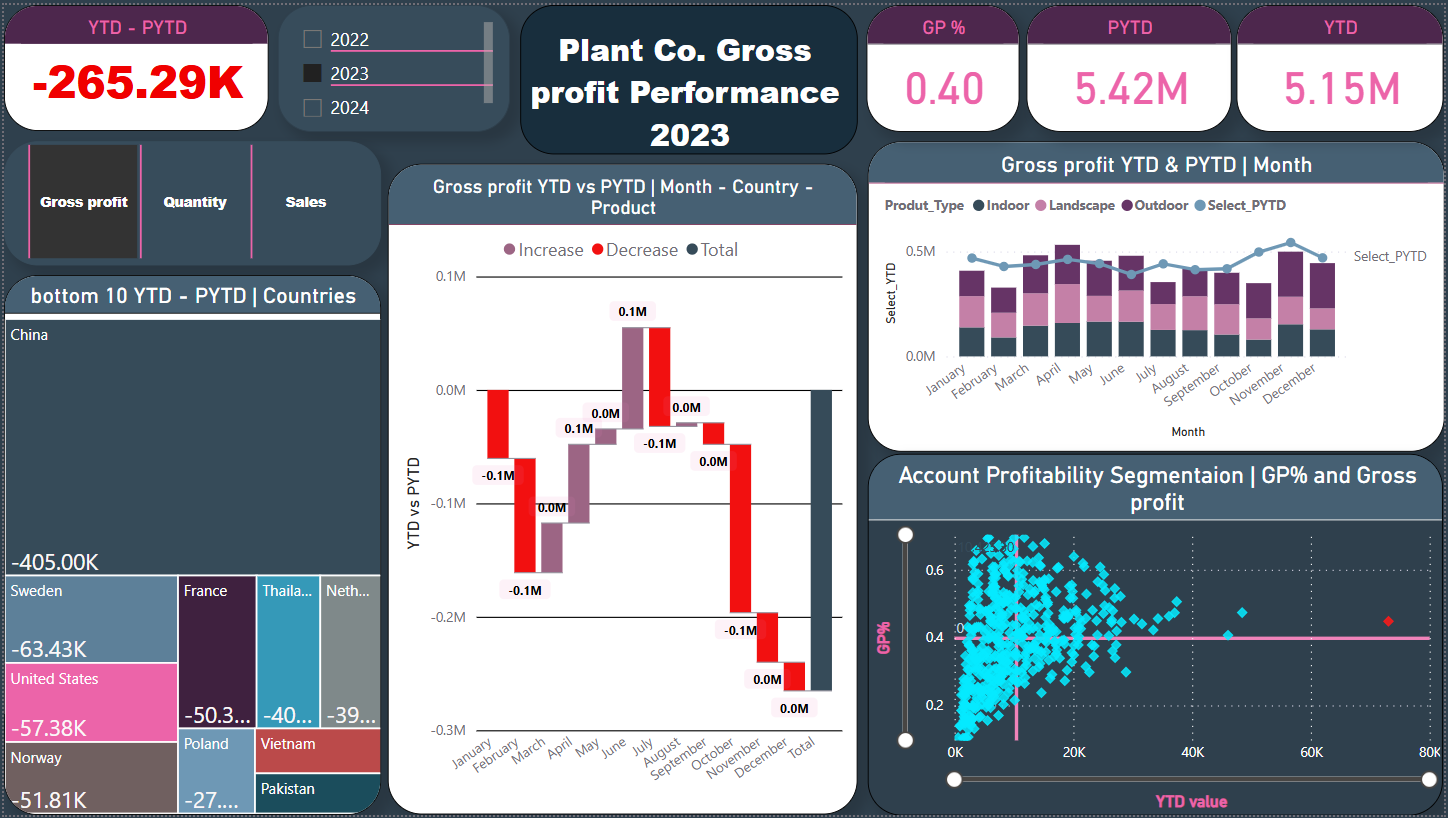

The page's visual inventory and layout, read from the dashboard file:
{"tool":"powerbi","page":{"name":"Page 1","canvas":[1280,720],"ordinal":0},"visuals":[{"type":"slicer","fields":{"Values":["Dim_Date.Date.Variation.Date Hierarchy.Year"]},"box":[243.8,0,206.2,112.5],"z":0},{"type":"slicer","fields":{"Values":["Slicer_Values.Values"]},"box":[0,112.5,335,118.8],"z":1000},{"type":"treemap","title":"bottom 10 YTD - PYTD | Countries","fields":{"Values":["_Measures.YTD vs PYTD"],"Group":["Dim_Account.country"]},"box":[0,240,335,480],"z":2000},{"type":"waterfallChart","fields":{"Y":["_Measures.YTD vs PYTD"],"Category":["Dim_Date.Date.Variation.Date Hierarchy.Month","Dim_Account.country"]},"box":[341.2,141.2,417.5,578.8],"z":3000},{"type":"lineStackedColumnComboChart","fields":{"Y":["_Measures.Select_YTD"],"Y2":["_Measures.Select_PYTD"],"Category":["Dim_Date.Date.Variation.Date Hierarchy.Quarter","Dim_Date.Date.Variation.Date Hierarchy.Month"],"Series":["Dim_Product.Produt_Type"]},"box":[767.5,121.2,512.5,276.2],"z":4000},{"type":"card","title":"GP %","fields":{"Values":["_Measures.GP%"]},"box":[766.2,0,136.2,112.5],"z":5000},{"type":"card","title":"YTD - PYTD","fields":{"Values":["_Measures.YTD vs PYTD"]},"box":[0,0,235,102.5],"z":6000},{"type":"card","title":"PYTD","fields":{"Values":["_Measures.Select_PYTD"]},"box":[908.8,0,182.5,112.5],"z":7000},{"type":"card","title":"YTD","fields":{"Values":["_Measures.Select_YTD"]},"box":[1095,0,183.8,112.5],"z":8000},{"type":"scatterChart","fields":{"X":["_Measures.Select_YTD"],"Category":["Dim_Account.Account"],"Y":["_Measures.GP%"]},"box":[767.5,398.8,511.2,321.2],"z":9000},{"type":"card","fields":{"Values":["_Measures._Report title"]},"box":[458.8,0,300,132.5],"z":10000}]}

Visuals, with their boxes in screenshot pixels (x1, y1, x2, y2), scaled from the page's 1280x720 canvas onto the 1448x818 screenshot:
slicer - Dim_Date.Date.Variation.Date Hierarchy.Year: bbox=[276, 0, 509, 128]
slicer - Slicer_Values.Values: bbox=[0, 128, 379, 263]
"bottom 10 YTD - PYTD | Countries" treemap: bbox=[0, 273, 379, 817]
waterfallChart - _Measures.YTD vs PYTD x Dim_Date.Date.Variation.Date Hierarchy.Month: bbox=[386, 160, 858, 817]
lineStackedColumnComboChart - _Measures.Select_YTD x _Measures.Select_PYTD: bbox=[868, 138, 1447, 451]
"GP %" card: bbox=[867, 0, 1021, 128]
"YTD - PYTD" card: bbox=[0, 0, 266, 116]
"PYTD" card: bbox=[1028, 0, 1235, 128]
"YTD" card: bbox=[1239, 0, 1447, 128]
scatterChart - _Measures.Select_YTD x Dim_Account.Account: bbox=[868, 453, 1447, 817]
card - _Measures._Report title: bbox=[519, 0, 858, 151]
